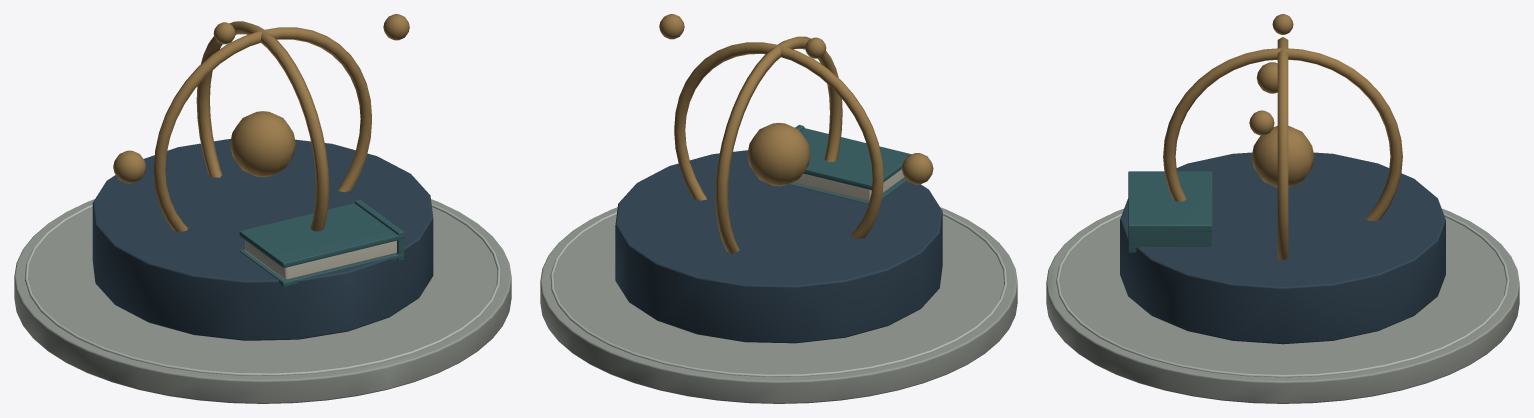
The model's file is idea-b70286e3.glb.
The picture shows the model from 3 angles, left to right: view 1: azimuth 30°, elevation 25°; view 2: azimuth 150°, elevation 25°; view 3: azimuth 270°, elevation 25°; orthographic projection. The views are drawn at different scales.
Parts seen in each view (by area): view 1: Buy a Star Registry; view 2: Buy a Star Registry; view 3: Buy a Star Registry.
Boxes of the visible parts, x1=… form: Buy a Star Registry: x1=14, y1=14, x2=511, y2=403; Buy a Star Registry: x1=540, y1=14, x2=1017, y2=403; Buy a Star Registry: x1=1046, y1=14, x2=1519, y2=403.
Size of the model in its own units: 4.5 by 2.85 by 4.5.
